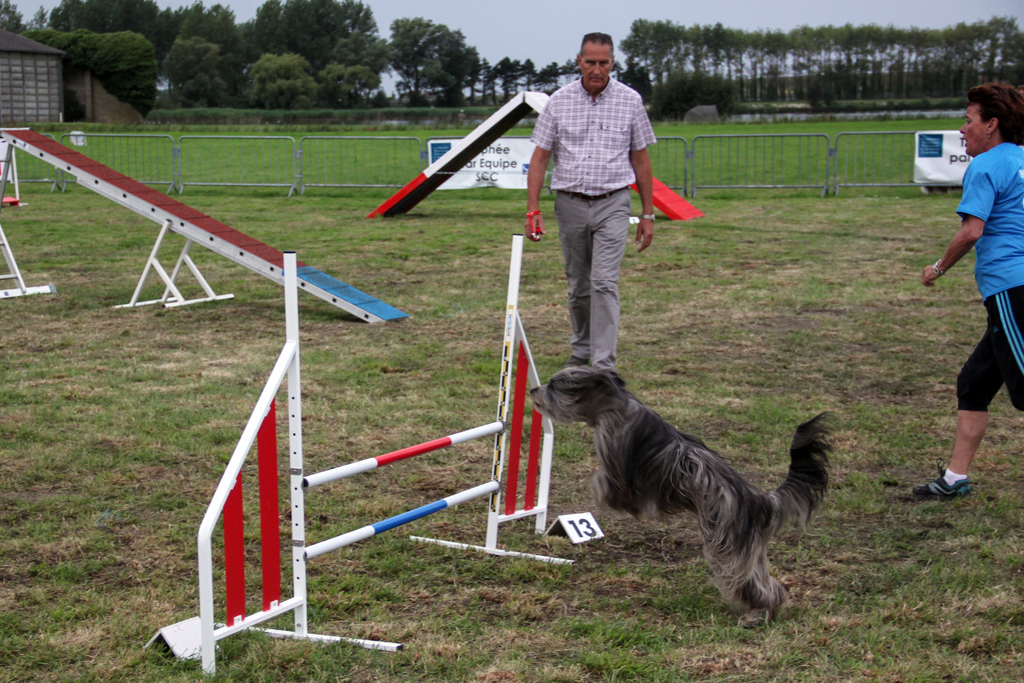Person: (911, 79, 1024, 501)
